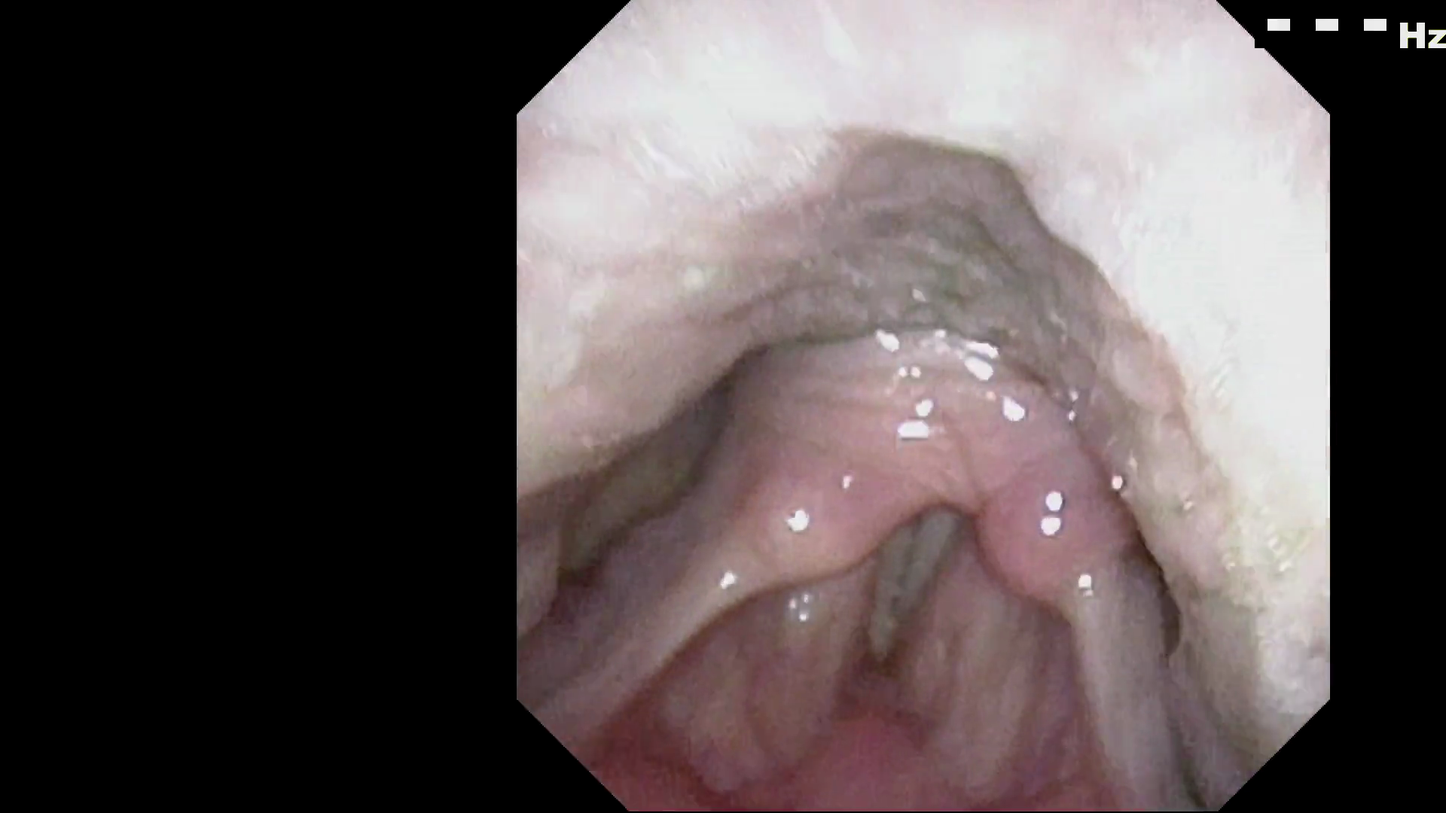epiglottis: (586, 322, 979, 511)
trachea: (858, 456, 990, 654)
